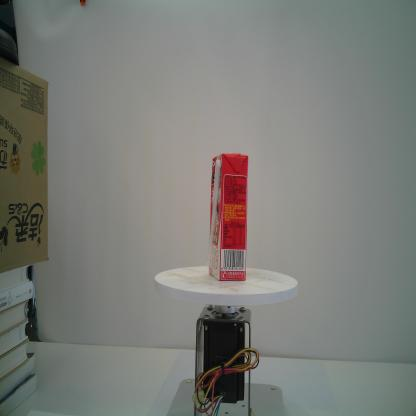Milk: (207, 151, 250, 282)
